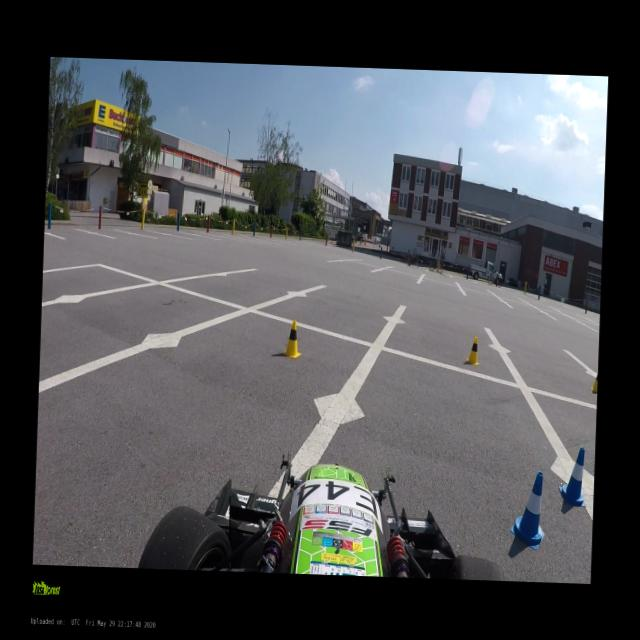blue_cone: (514, 469, 546, 548), (560, 446, 586, 504)
yellow_cone: (282, 320, 302, 358), (466, 336, 480, 364), (590, 366, 597, 392)
